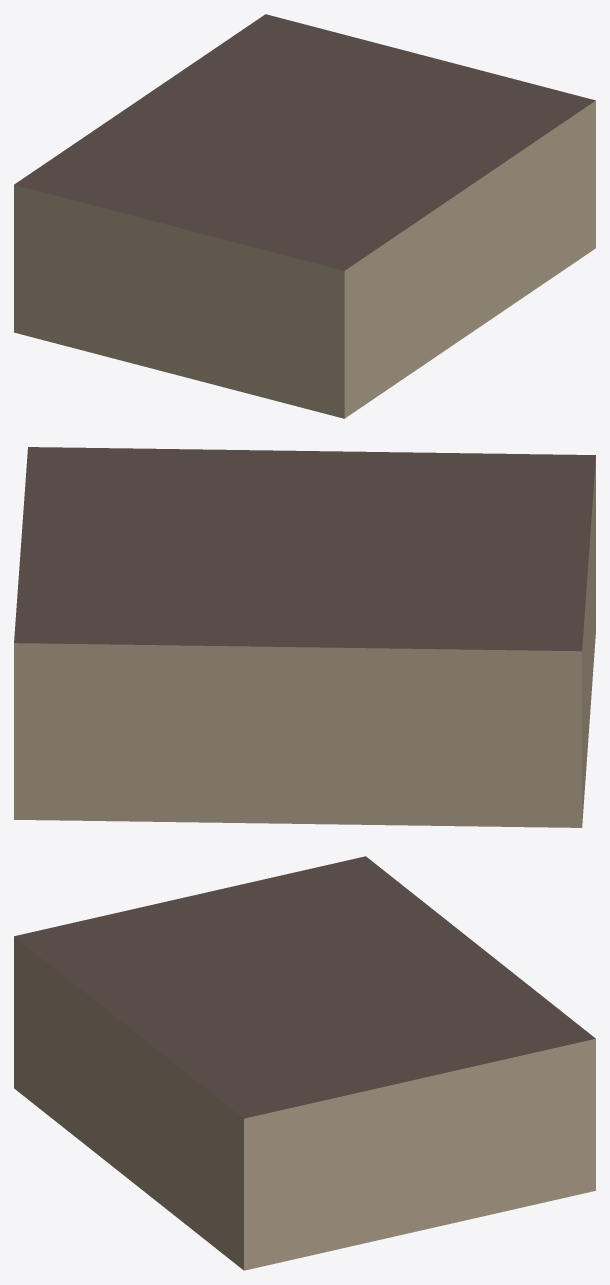
3 views of the same model, one above another, from view 1: azimuth 30°, elevation 25°; view 2: azimuth 150°, elevation 25°; view 3: azimuth 270°, elevation 25° (orthographic). The views are drawn at different scales.
Parts seen in each view (by area): view 1: HP-w369317486; view 2: HP-w369317486; view 3: HP-w369317486.
Part boxes in pixels (x1,y1,x2,y2): HP-w369317486: (14,14,595,418); HP-w369317486: (14,447,595,827); HP-w369317486: (14,856,595,1270).
Size of the model in its own units: 33.3 by 9 by 31.21.
